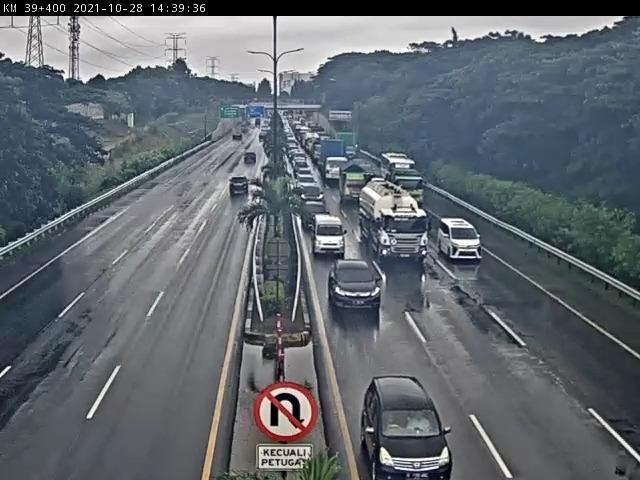bus: (380, 152, 416, 183)
car: (364, 366, 446, 480), (327, 261, 380, 318), (433, 219, 485, 259), (312, 209, 342, 250), (217, 176, 255, 200), (303, 193, 332, 223), (239, 145, 267, 175), (336, 168, 359, 195), (300, 184, 324, 203), (239, 155, 256, 177), (299, 173, 319, 186)
truck: (361, 182, 418, 248), (381, 169, 419, 201), (321, 143, 351, 180)
